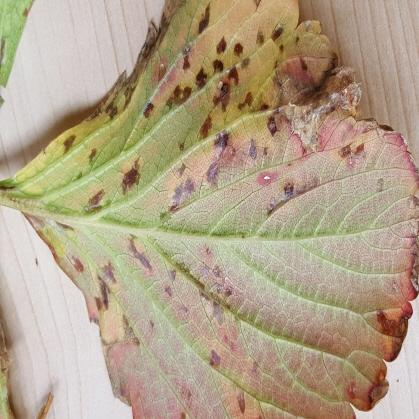Angular Leafspot: (0, 0, 418, 418)
